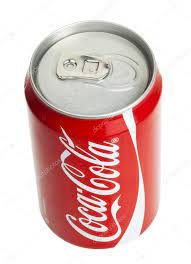can: (20, 16, 167, 253)
